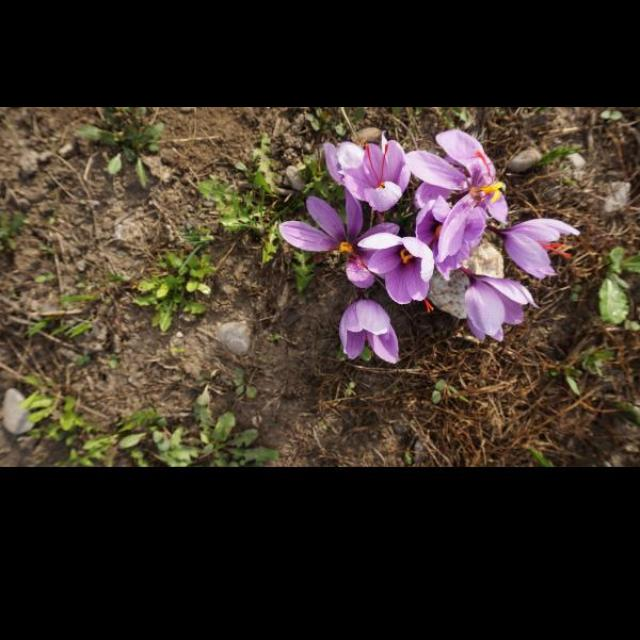flower: (404, 129, 508, 263), (280, 186, 400, 290), (358, 234, 437, 314), (463, 273, 542, 345), (338, 140, 410, 212), (502, 217, 582, 281), (338, 296, 404, 364)
overlap: (280, 129, 510, 315)
